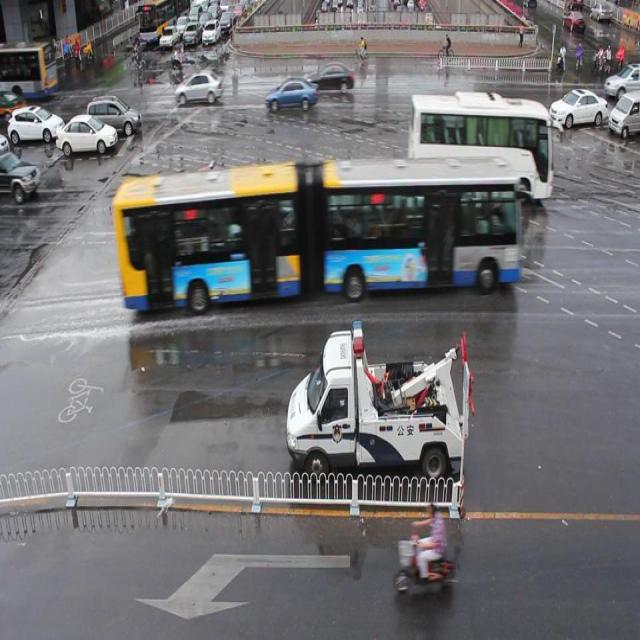car: (444, 180, 507, 241), (546, 85, 607, 127), (265, 76, 318, 111), (175, 69, 222, 103), (309, 62, 354, 93)
van: (123, 155, 516, 292), (408, 93, 549, 200)
